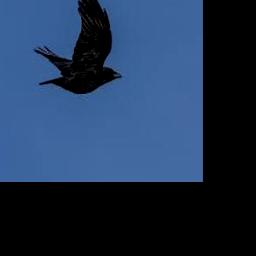Crow: (34, 0, 123, 93)
